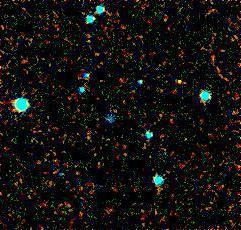star: (169, 63, 199, 93)
